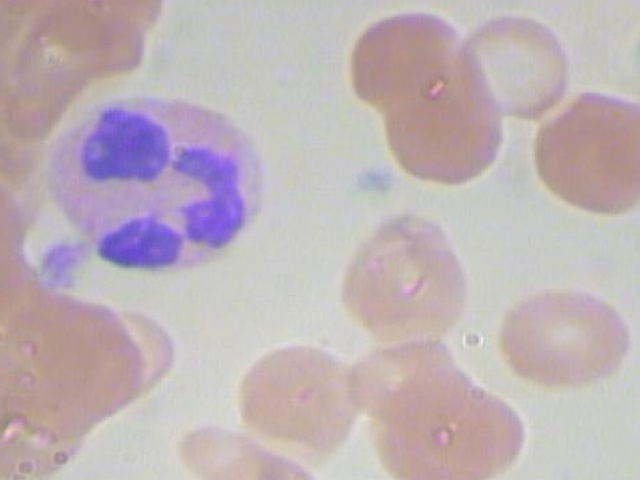Platelets: (35, 234, 93, 291), (639, 474, 640, 480)
RBC: (331, 202, 479, 352), (363, 374, 537, 480), (230, 340, 372, 461), (489, 281, 640, 394), (456, 1, 583, 127), (523, 88, 640, 221), (382, 79, 521, 185), (333, 0, 472, 103), (168, 419, 326, 480)
WBC: (42, 85, 276, 276)
